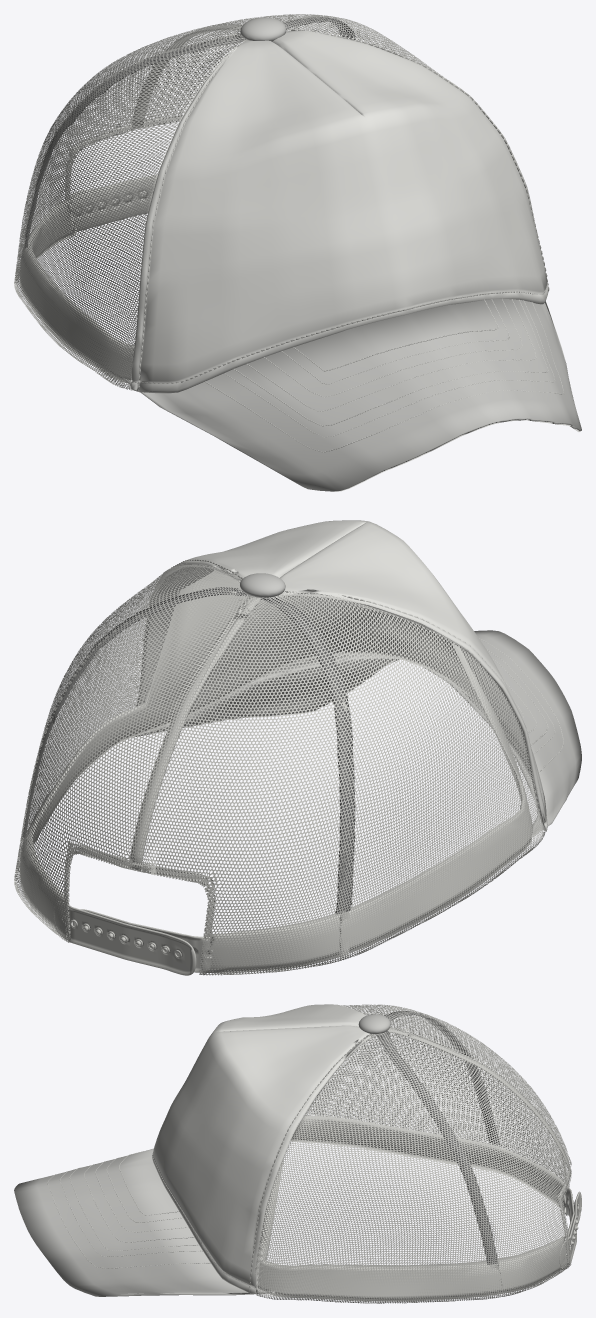
The picture shows the model from 3 angles, top to bottom: view 1: azimuth 30°, elevation 25°; view 2: azimuth 150°, elevation 25°; view 3: azimuth 270°, elevation 25°; orthographic projection. The views are drawn at different scales.
Parts seen in each view (by area): view 1: Front panel / color, Brim / color, Open mesh / color, Snapback / color, Topstitch / color, Interior trim, Crown seams; view 2: Open mesh / color, Snapback / color, Front panel / color, Brim / color, Interior trim; view 3: Open mesh / color, Front panel / color, Brim / color, Snapback / color, Interior trim, Topstitch / color, Crown seams.
Boxes of the visible parts, <box> form: Front panel / color: <box>129,30,548,393</box>; Brim / color: <box>120,17,581,491</box>; Open mesh / color: <box>14,14,540,390</box>; Snapback / color: <box>19,26,240,389</box>; Topstitch / color: <box>204,299,563,452</box>; Interior trim: <box>25,17,355,247</box>; Crown seams: <box>132,29,549,383</box>; Open mesh / color: <box>14,565,545,975</box>; Snapback / color: <box>19,570,542,975</box>; Front panel / color: <box>136,520,547,831</box>; Brim / color: <box>135,573,581,836</box>; Interior trim: <box>22,587,355,914</box>; Open mesh / color: <box>255,1004,571,1303</box>; Front panel / color: <box>152,1004,374,1294</box>; Brim / color: <box>14,1014,390,1296</box>; Snapback / color: <box>257,1027,581,1301</box>; Interior trim: <box>377,1011,499,1264</box>; Topstitch / color: <box>47,1149,210,1268</box>; Crown seams: <box>152,1035,368,1292</box>.
Bounding box in the file's own units: 0.2 × 0.135 × 0.3.
7 materials, 1 textured.
